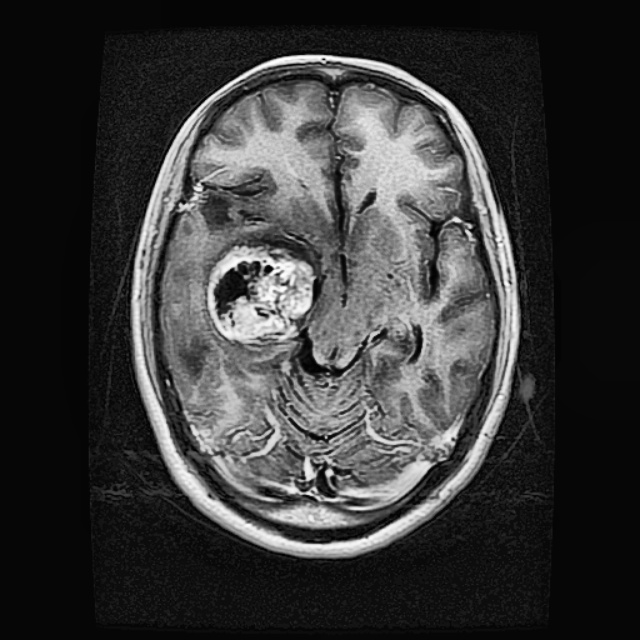Glioma: (207, 233, 319, 344)
